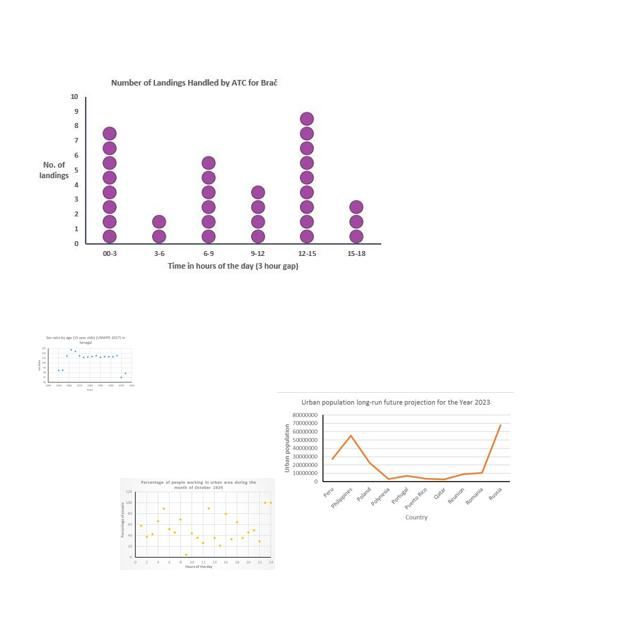Graph: (27, 70, 389, 280), (277, 392, 514, 523), (120, 478, 275, 570), (35, 334, 136, 393)
